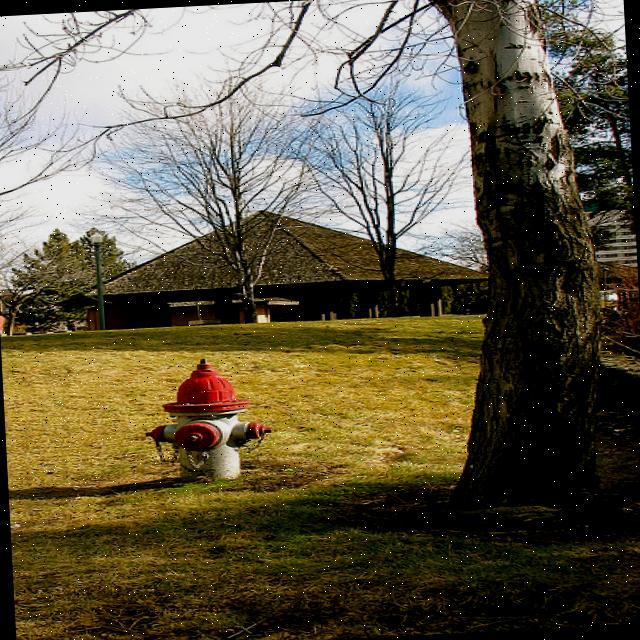fire_hydrant: (142, 356, 276, 488)
